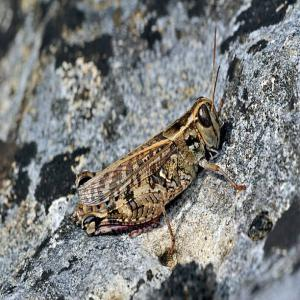locust: (77, 79, 235, 270)
